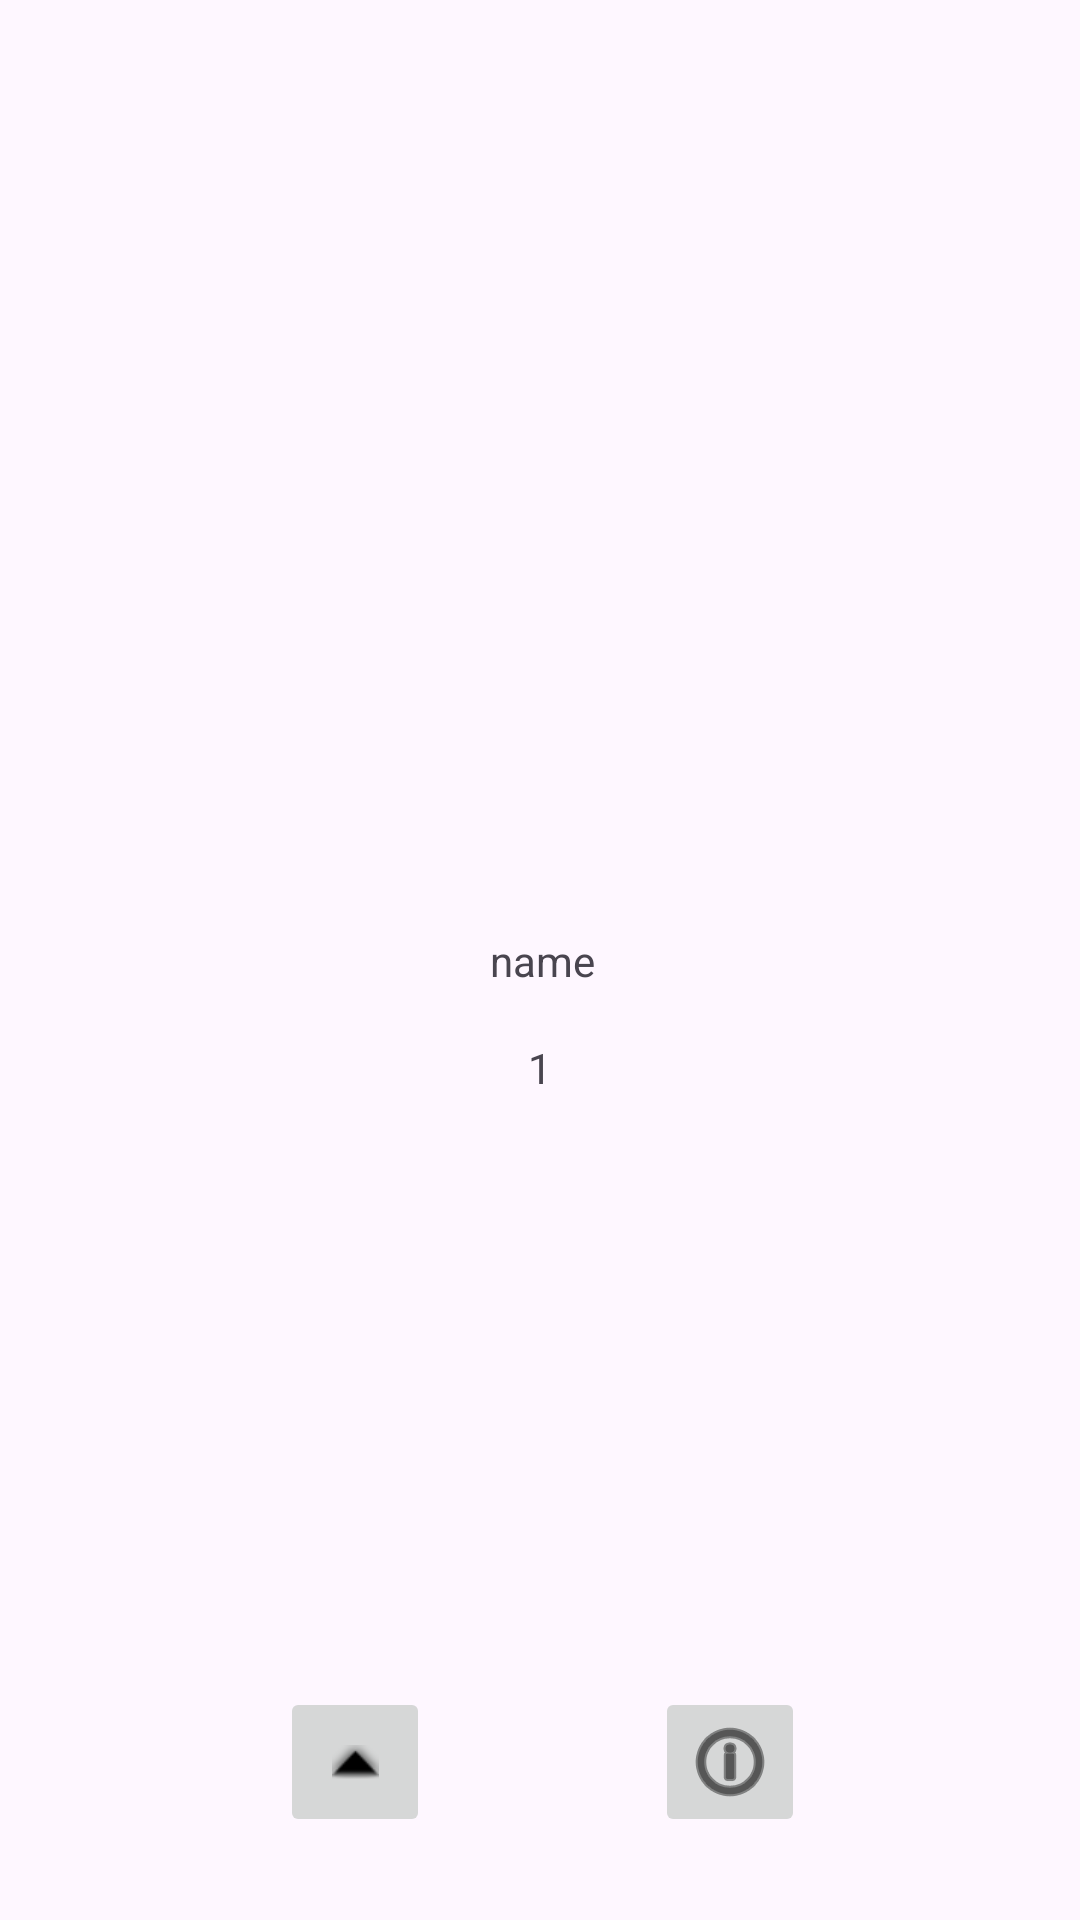

Point at icon controls on the screen. Image size 1080px x 1920px, points as point (x, y).
Info: point (730, 1762)
